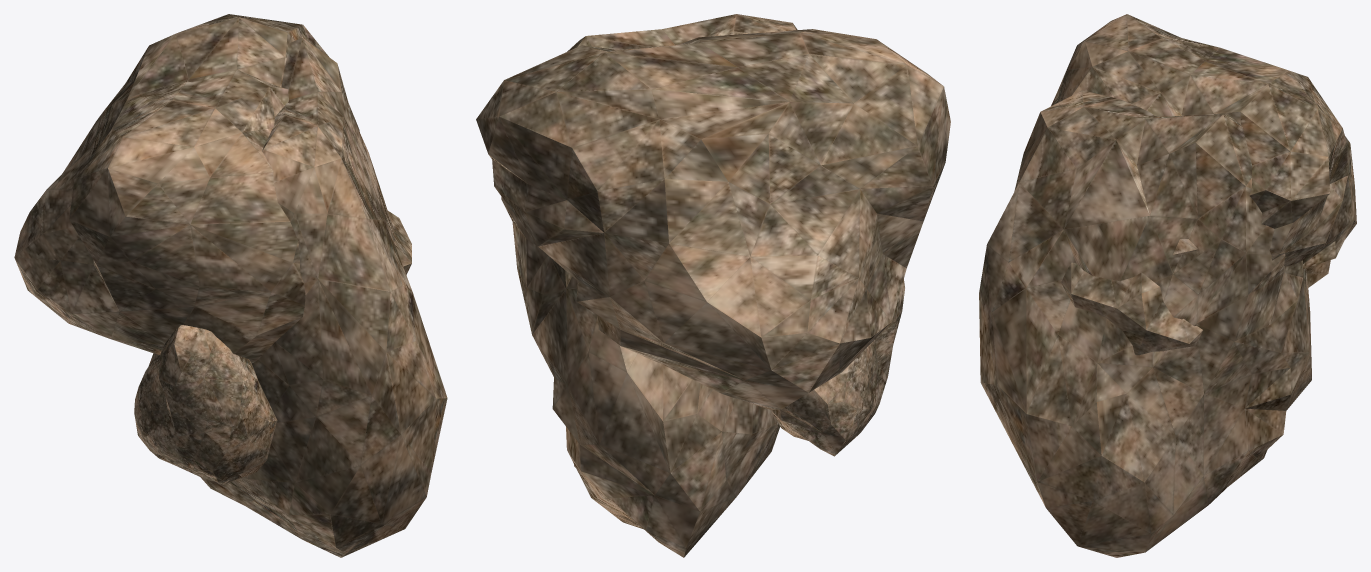
File: rocks.glb
3 views of the same model, side by side, from view 1: azimuth 30°, elevation 25°; view 2: azimuth 150°, elevation 25°; view 3: azimuth 270°, elevation 25° (orthographic). The views are drawn at different scales.
Visible parts, largest first — view 1: rockLow1.001, rockLow1.002, rockLow1; view 2: rockLow1.001, rockLow1.002, rockLow1; view 3: rockLow1.002, rockLow1.001.
Boxes of the visible parts, left/top/right/bottom form: rockLow1.001: left=14, top=14, right=411, bottom=363; rockLow1.002: left=200, top=38, right=447, bottom=557; rockLow1: left=134, top=325, right=277, bottom=484; rockLow1.001: left=476, top=29, right=950, bottom=409; rockLow1.002: left=501, top=14, right=797, bottom=557; rockLow1: left=771, top=279, right=904, bottom=456; rockLow1.002: left=979, top=90, right=1311, bottom=557; rockLow1.001: left=1051, top=14, right=1356, bottom=355.
Size of the model in its own units: 0.9043 by 1.27 by 0.9374.
Materials: 1 (1 with a texture image).
